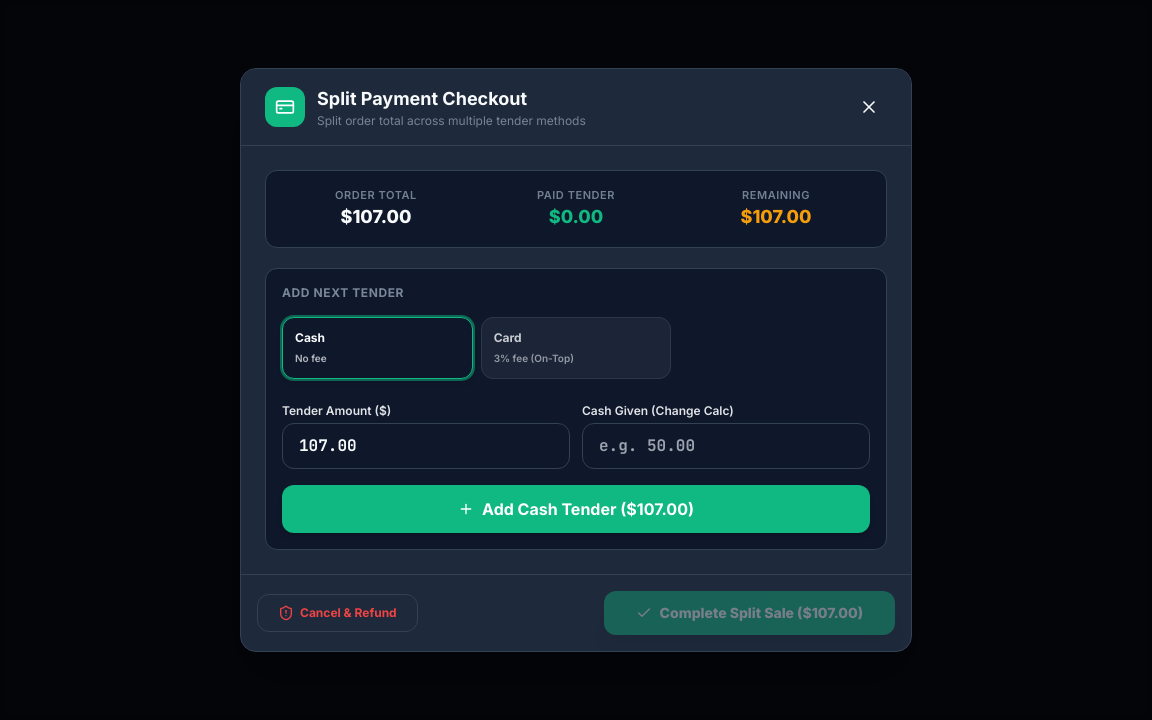
SplitPaymentModal Component › renders order summary and allows adding cash tender
The width and height of the screenshot is (1152, 720).
Check: the heading "Split Payment Checkout" is shown, box [317, 88, 527, 109]
Check: the 1st text "$107.00" is shown, box [340, 206, 412, 227]
Select Tender amount: $50
Replace the text in the number field labelled "Tender Amount ($)" with "50.00" at (426, 446), box [282, 423, 570, 469]
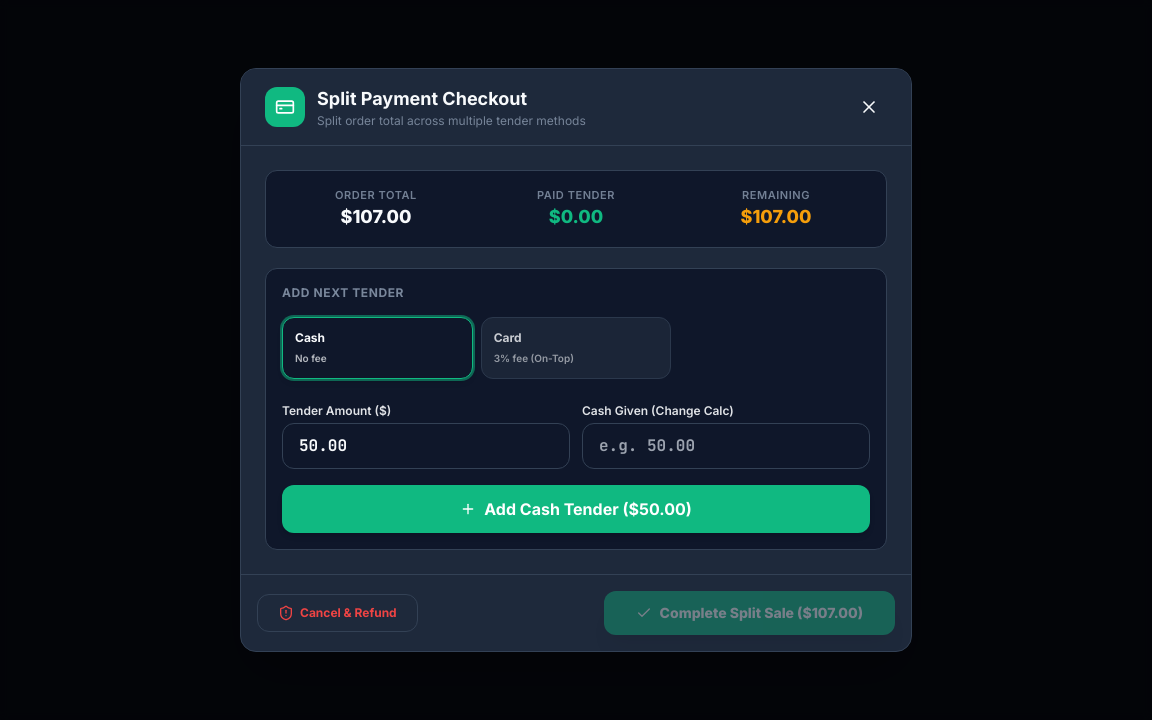
Add Tender button
Click the button "Add Cash Tender ($50.00)" at (576, 509), box [282, 485, 870, 533]
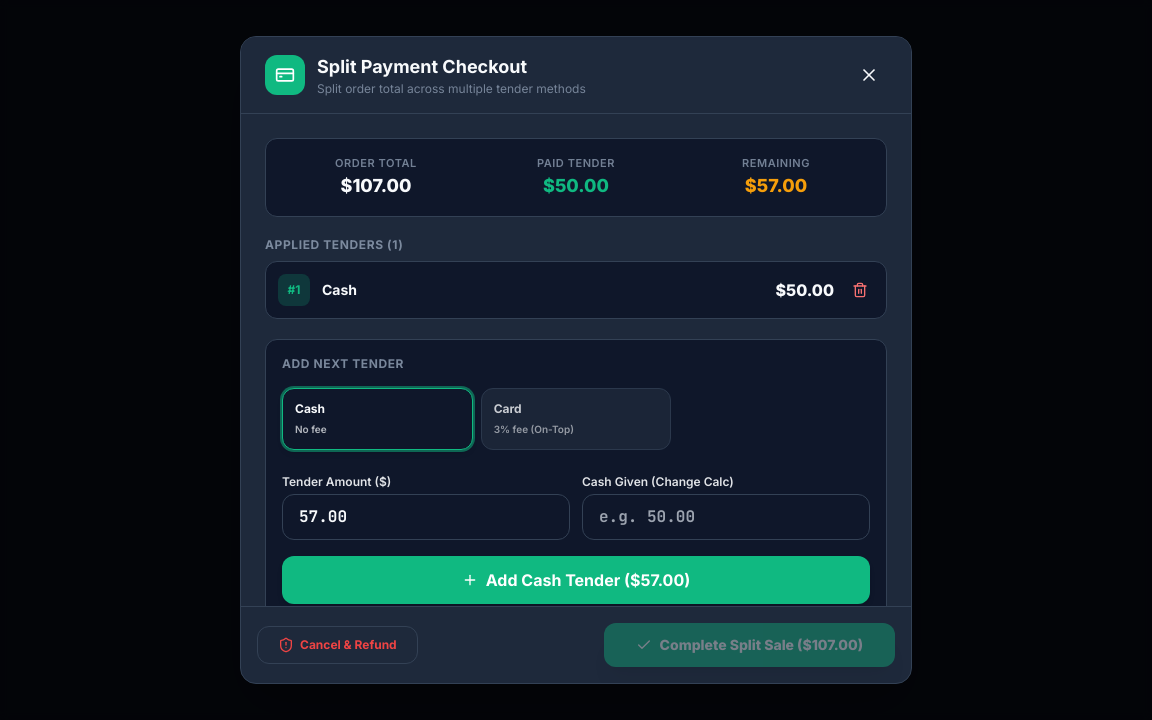
Check: the heading "Applied Tenders (1)" is shown, box [265, 236, 403, 252]
Check: the text "$57.00" is shown, box [745, 174, 807, 196]
